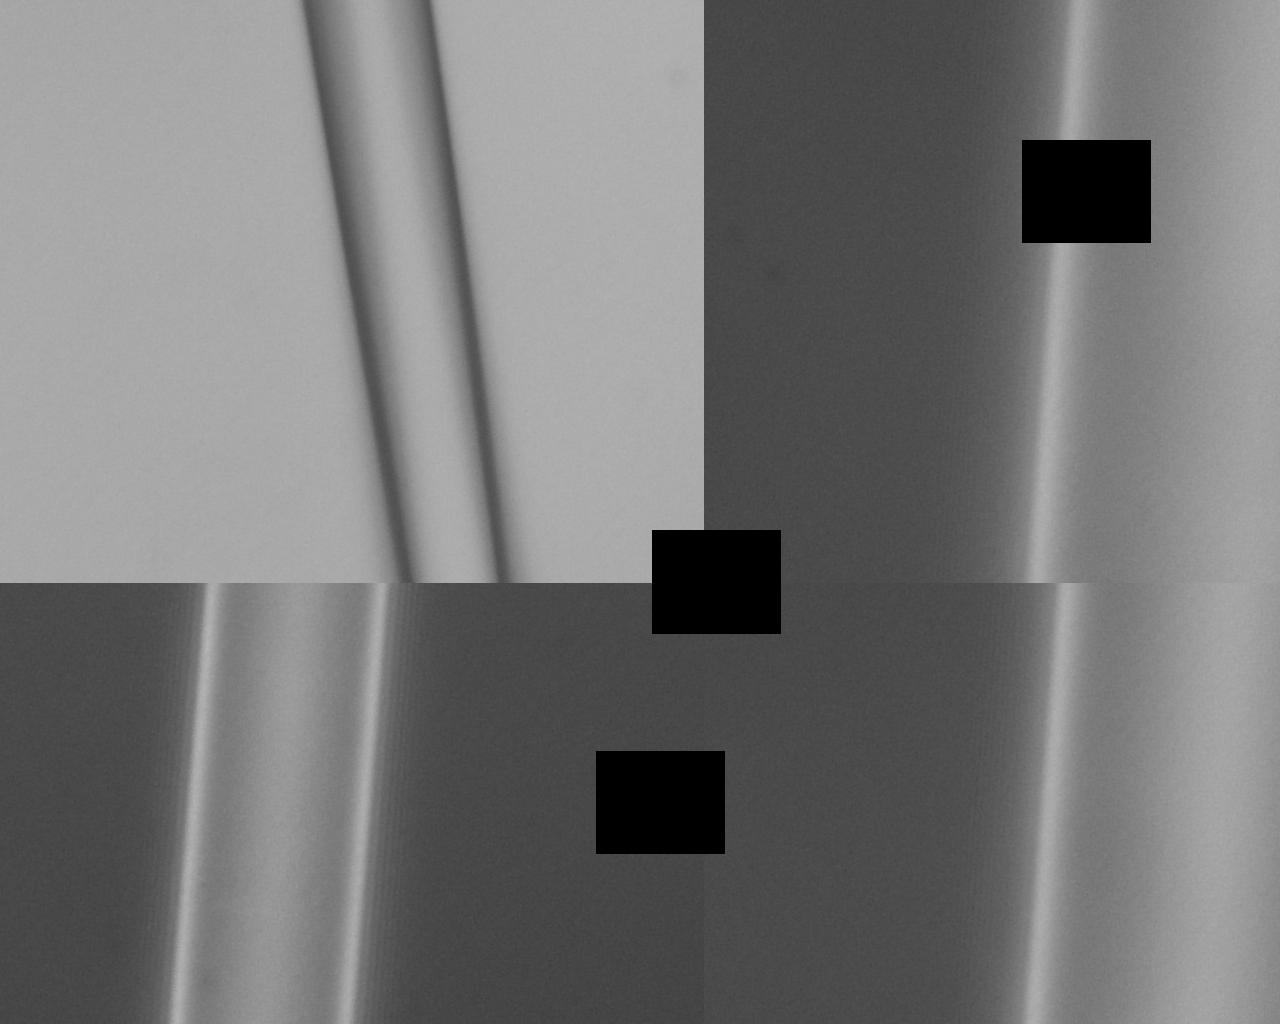fiber: (680, 1, 733, 1024)
